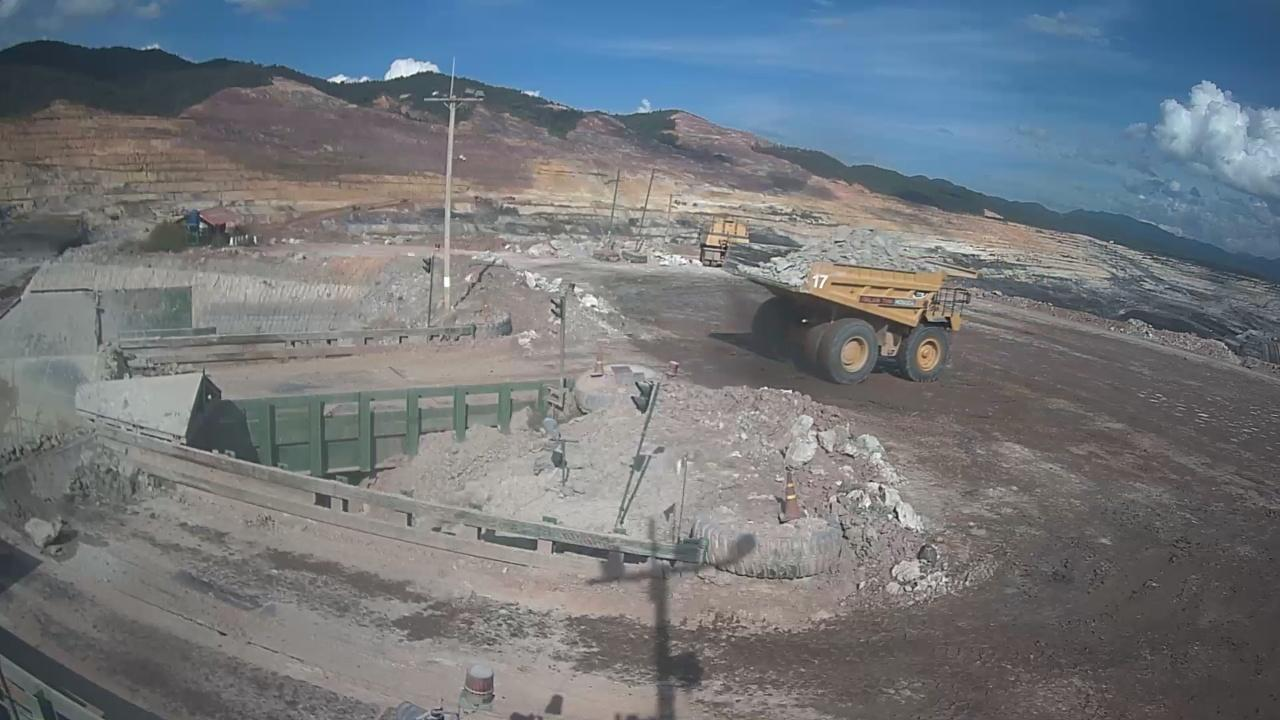full_load: (801, 229, 931, 270)
mining_truck: (732, 213, 972, 385)
tail_number: (810, 274, 831, 291)
